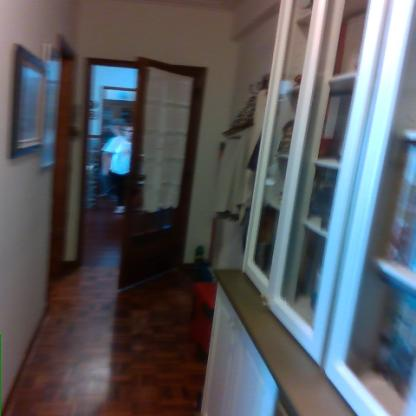semi: (46, 52, 219, 296)
